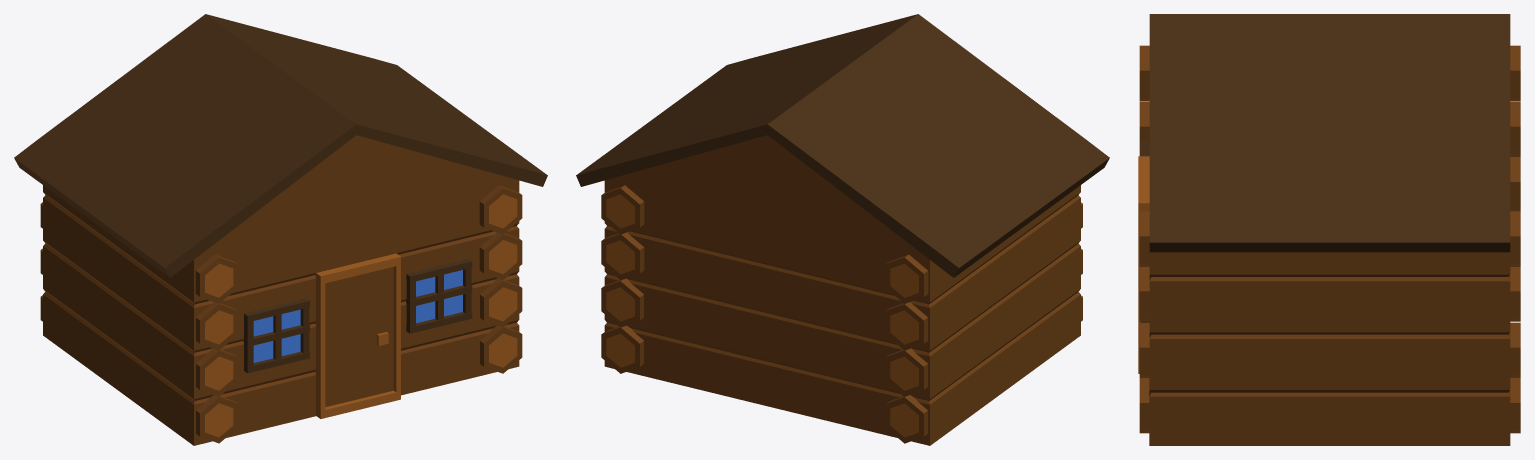
The model's file is HouseForestUV.fbx.
3 views of the same model, side by side, from view 1: azimuth 30°, elevation 25°; view 2: azimuth 150°, elevation 25°; view 3: azimuth 270°, elevation 25° (orthographic). The views are drawn at different scales.
Visible parts, largest first — view 1: Cube; view 2: Cube; view 3: Cube.
Boxes of the visible parts, box(x1,y1,x2,y2) form: Cube: box(14, 14, 547, 445); Cube: box(576, 14, 1109, 445); Cube: box(1138, 14, 1520, 445).
Size of the model in its own units: 682 by 480 by 493.
